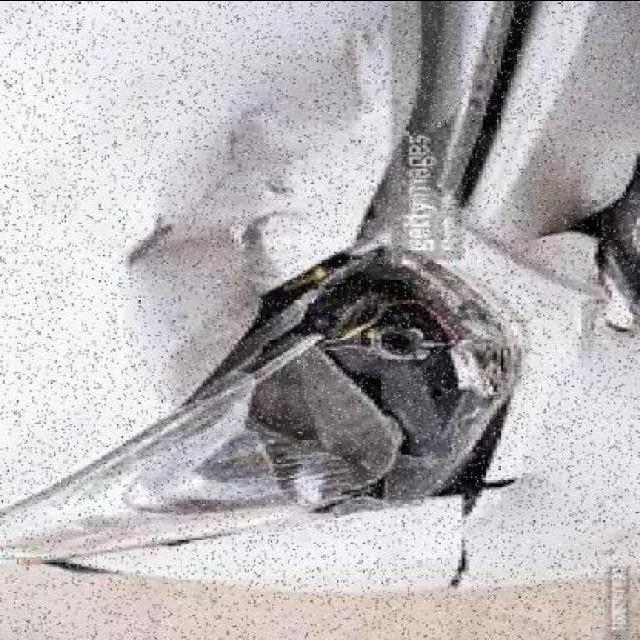Headlight-Damage: (113, 227, 533, 590)
bonnet-dent: (0, 3, 532, 350)
